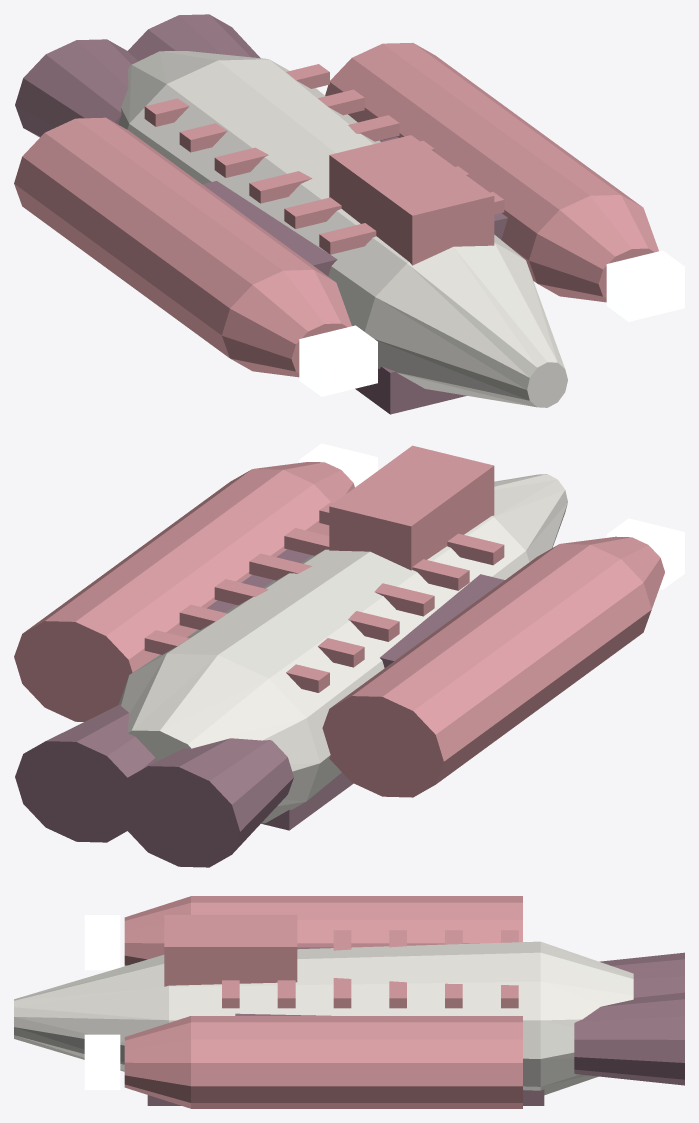
3 views of the same model, one above another, from view 1: azimuth 30°, elevation 25°; view 2: azimuth 150°, elevation 25°; view 3: azimuth 270°, elevation 25° (orthographic). The views are drawn at different scales.
Bounding box in the file's own units: 3.76 × 1.62 × 6.37.
